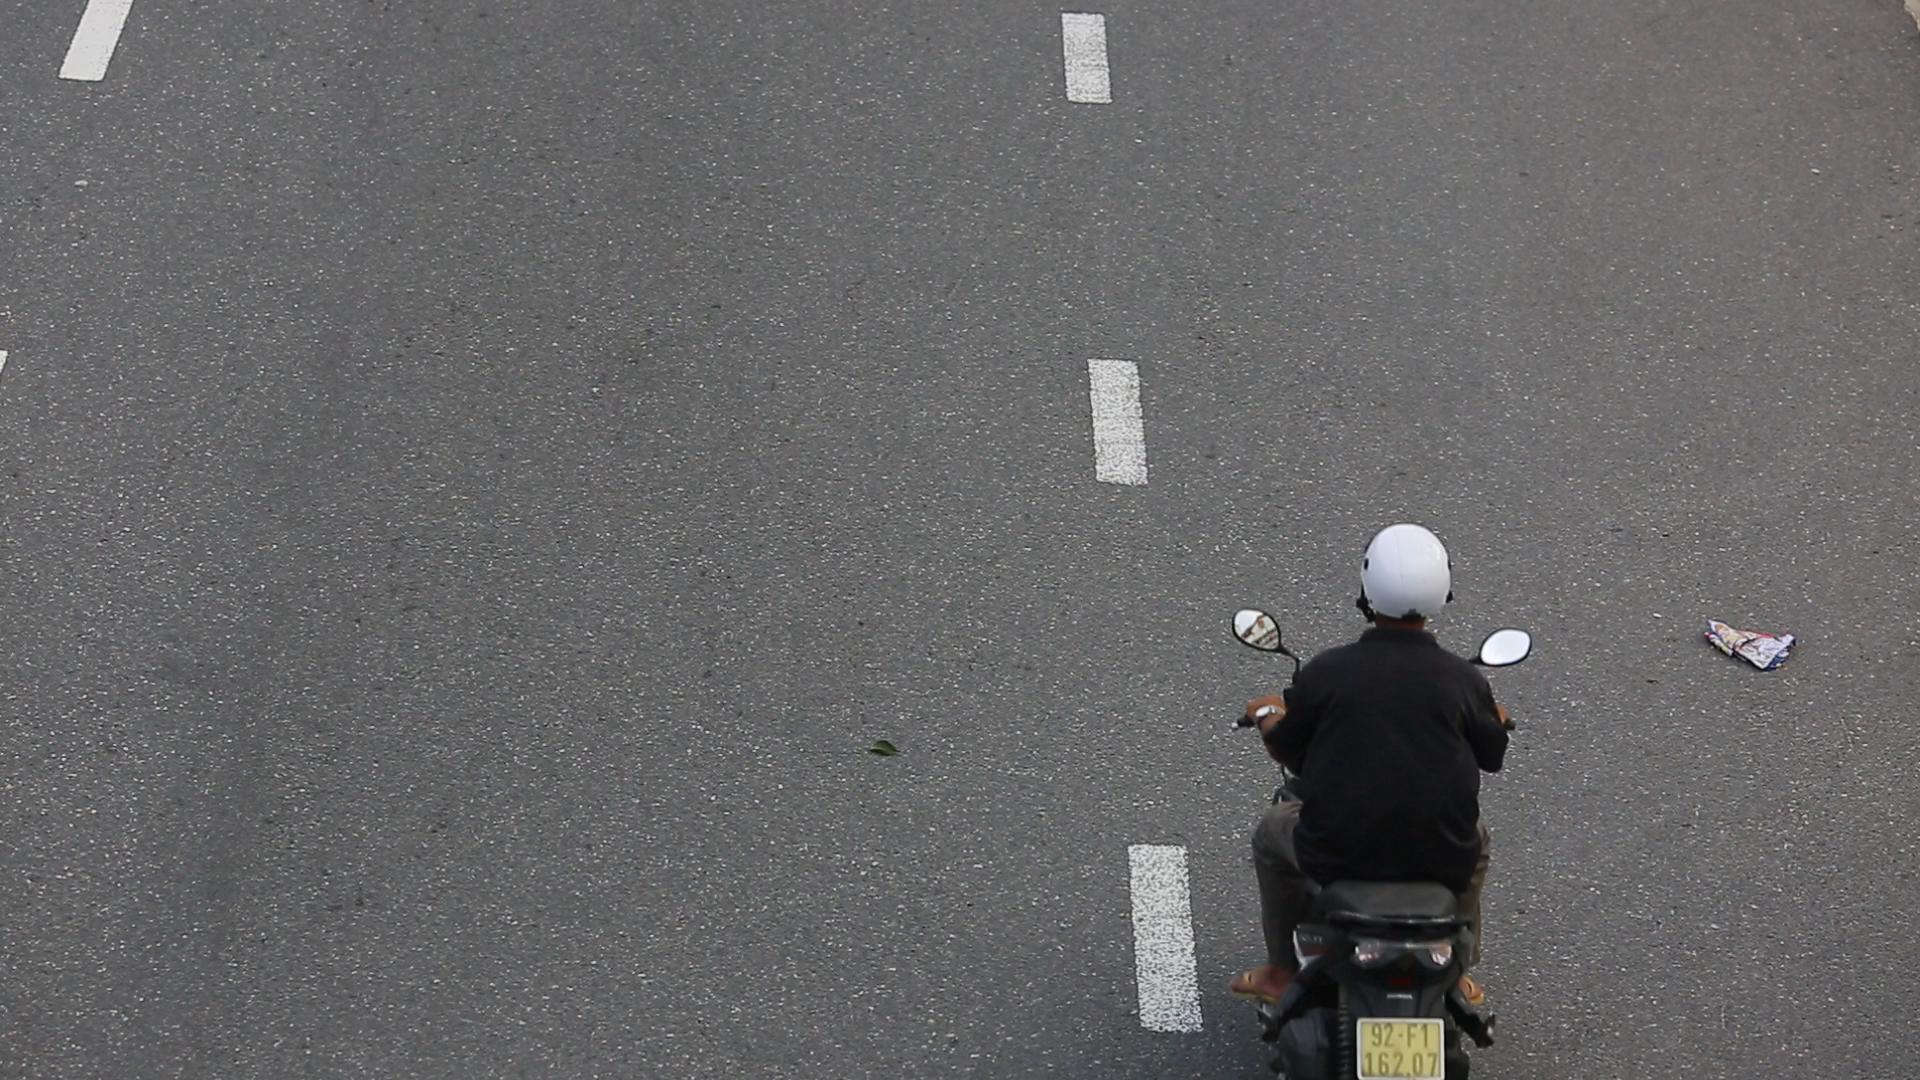motobike: (1218, 518, 1569, 1080)
